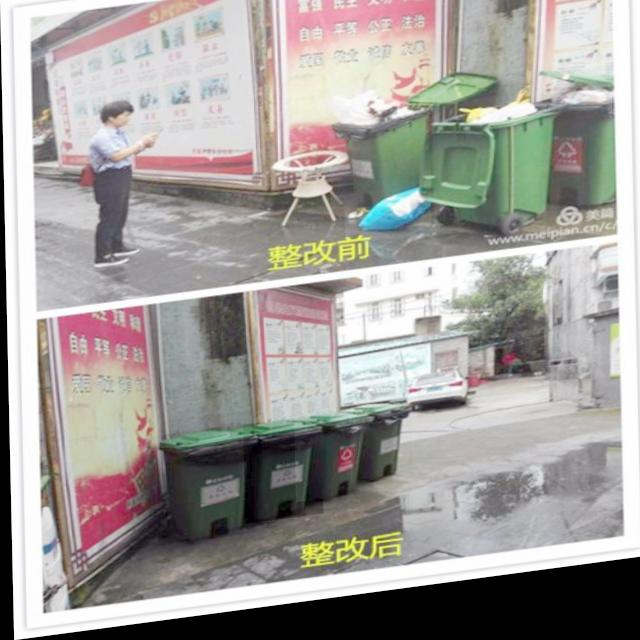garbage: (343, 195, 430, 245)
garbage_bin: (154, 429, 253, 550), (241, 423, 321, 531), (292, 418, 371, 510), (347, 409, 410, 492)
overflow: (431, 104, 555, 248), (327, 93, 429, 220), (546, 79, 613, 225)
